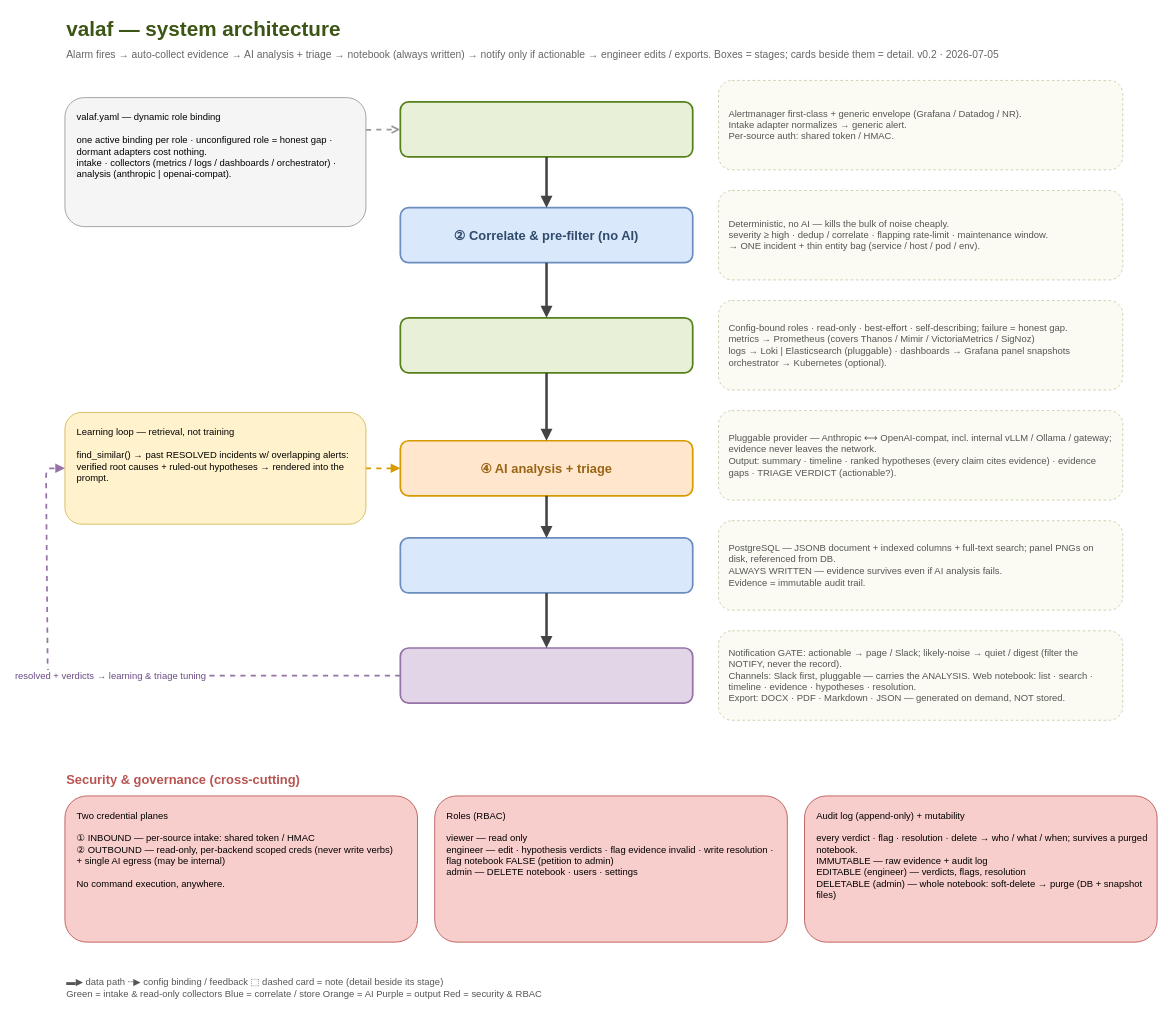
The diagram is 1172 pixels wide and 1023 high, and some of its shapes have lost their labels. Here are the shapes that lost their labels. From the top down, the box of each, then its label:
(399, 101, 693, 157): ① Intake — sources → adapter
(399, 316, 693, 373): ③ Evidence collection (read-only)
(399, 537, 693, 593): ⑤ Notebook store (PostgreSQL)
(399, 647, 693, 703): ⑥ Notify · Review · Export
